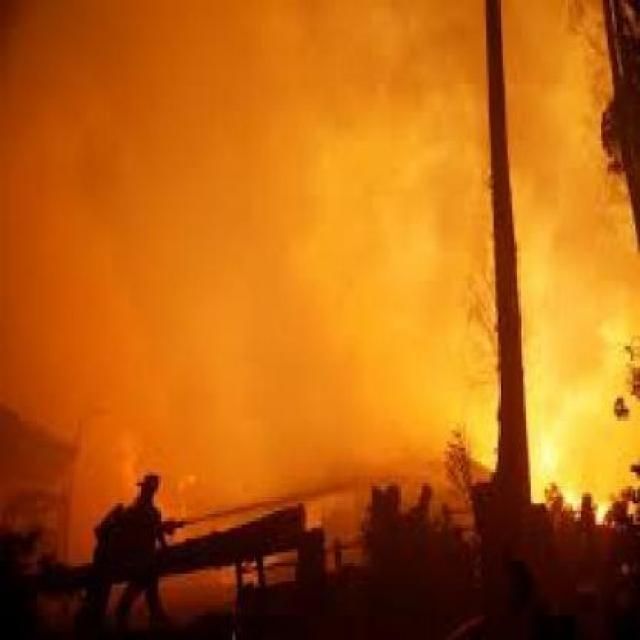Fire: (508, 324, 638, 540)
Smoke: (10, 2, 506, 461)
